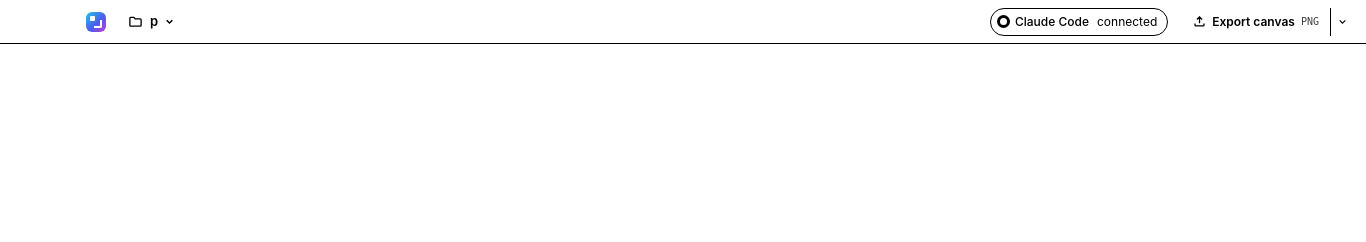
Test: TitleBar export options › closes on Escape
This screenshot has width=1366, height=242.
Click the button named "Export options" at (1342, 22), box [1330,8,1354,36]
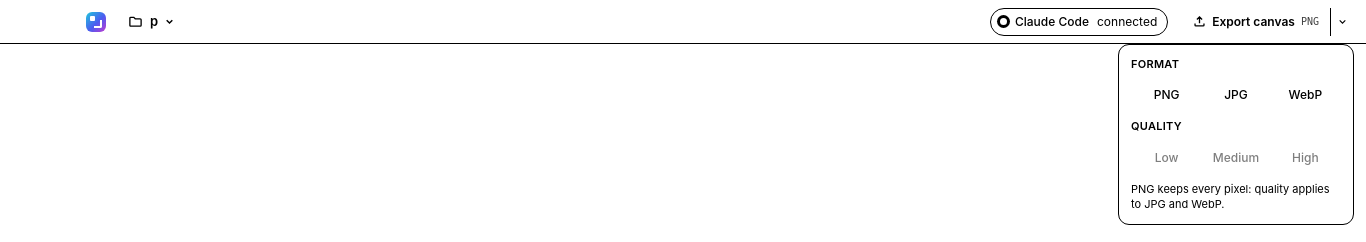
Press Escape
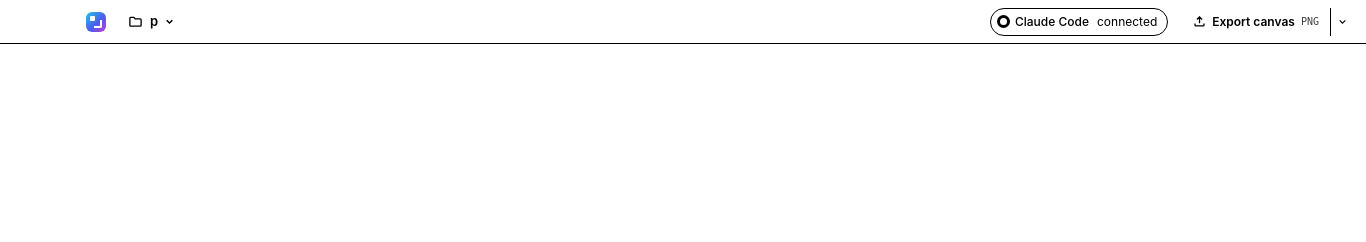
Check: the button "JPG" is gone
